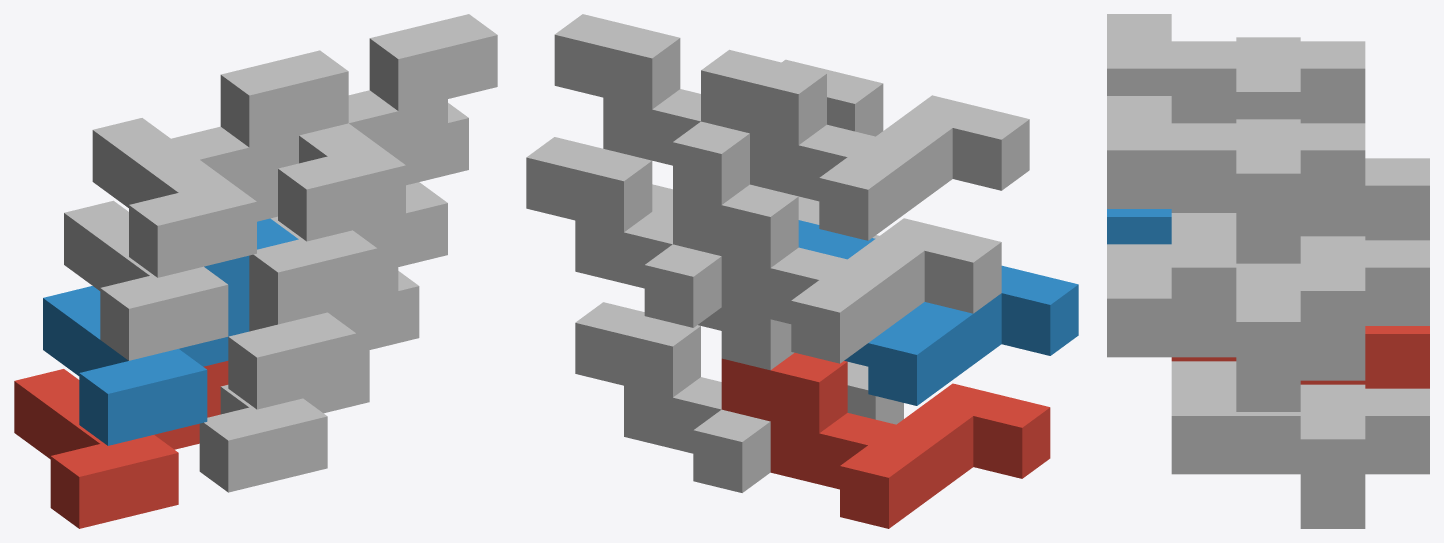
Rendered from tiling.obj.
The picture shows the model from 3 angles, left to right: view 1: azimuth 30°, elevation 25°; view 2: azimuth 150°, elevation 25°; view 3: azimuth 270°, elevation 25°; orthographic projection. The views are drawn at different scales.
Parts seen in each view (by area): view 1: copy_1_domain_4, copy_1_domain_8, copy_1_domain_2, copy_1_domain_6, copy_1_domain_1, copy_1_domain_3, copy_1_domain_5, copy_1_domain_7; view 2: copy_1_domain_4, copy_1_domain_3, copy_1_domain_1, copy_1_domain_8, copy_1_domain_5, copy_1_domain_7, copy_1_domain_2, copy_1_domain_6; view 3: copy_1_domain_8, copy_1_domain_5, copy_1_domain_7, copy_1_domain_4, copy_1_domain_6, copy_1_domain_3, copy_1_domain_1, copy_1_domain_2.
Boxes of the visible parts, x1=… form: copy_1_domain_4: x1=92, y1=50, x2=348, y2=277; copy_1_domain_8: x1=278, y1=14, x2=497, y2=241; copy_1_domain_2: x1=43, y1=218, x2=298, y2=445; copy_1_domain_6: x1=228, y1=182, x2=447, y2=409; copy_1_domain_1: x1=14, y1=361, x2=228, y2=528; copy_1_domain_3: x1=64, y1=192, x2=277, y2=360; copy_1_domain_5: x1=199, y1=271, x2=419, y2=492; copy_1_domain_7: x1=249, y1=103, x2=468, y2=324; copy_1_domain_4: x1=701, y1=49, x2=1029, y2=240; copy_1_domain_3: x1=673, y1=184, x2=1001, y2=363; copy_1_domain_1: x1=721, y1=353, x2=1050, y2=528; copy_1_domain_8: x1=554, y1=14, x2=883, y2=204; copy_1_domain_5: x1=575, y1=302, x2=903, y2=492; copy_1_domain_7: x1=526, y1=137, x2=819, y2=327; copy_1_domain_2: x1=798, y1=220, x2=1078, y2=405; copy_1_domain_6: x1=652, y1=184, x2=879, y2=370; copy_1_domain_8: x1=1107, y1=96, x2=1365, y2=263; copy_1_domain_5: x1=1171, y1=361, x2=1429, y2=528; copy_1_domain_7: x1=1171, y1=213, x2=1429, y2=380; copy_1_domain_4: x1=1107, y1=14, x2=1365, y2=123; copy_1_domain_6: x1=1107, y1=244, x2=1300, y2=411; copy_1_domain_3: x1=1171, y1=158, x2=1429, y2=240; copy_1_domain_1: x1=1171, y1=326, x2=1429, y2=388; copy_1_domain_2: x1=1107, y1=209, x2=1171, y2=244.
Bounding box in the file's own units: 9 × 7 × 5.
